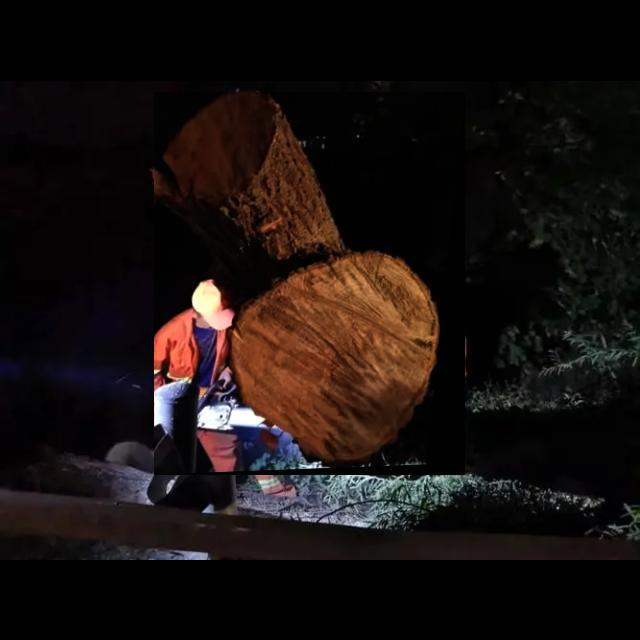fallen_tree: (154, 92, 466, 476)
